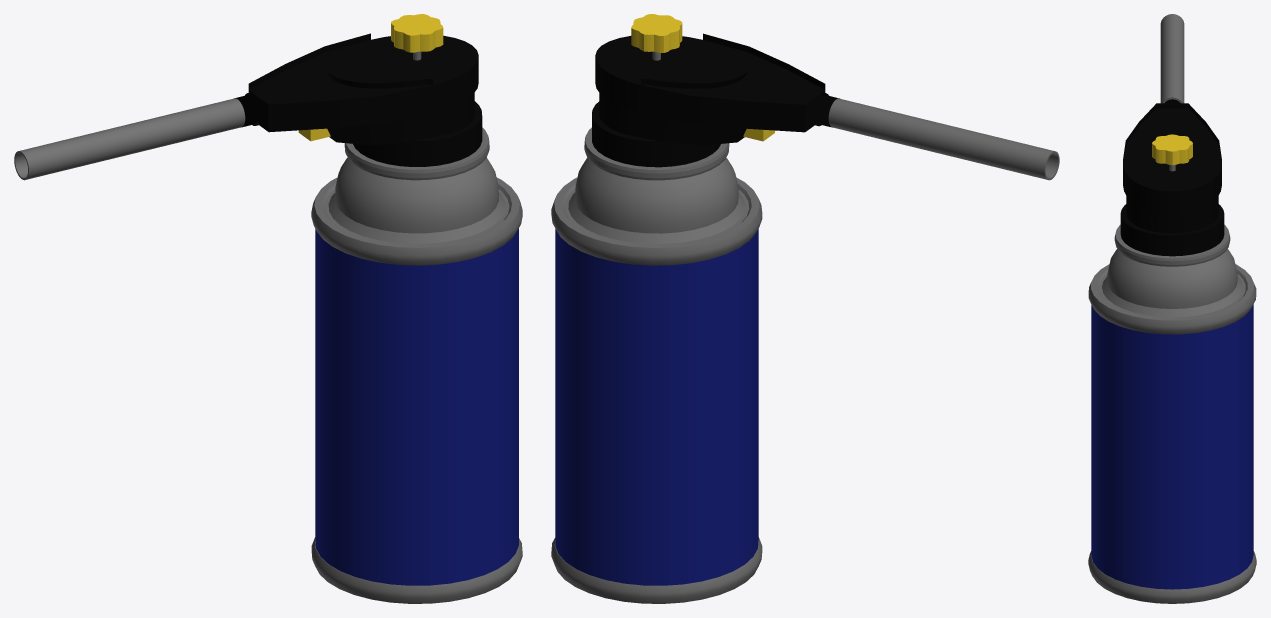
File: burner.gltf
The picture shows the model from 3 angles, left to right: view 1: azimuth 30°, elevation 25°; view 2: azimuth 150°, elevation 25°; view 3: azimuth 270°, elevation 25°; orthographic projection. The views are drawn at different scales.
Visible parts, largest first — view 1: Цилиндр, Плоскость.001, Окружность.002, Окружность.006, Окружность.001, Окружность, Плоскость, Окружность.004, Окружность.003, Окружность.008; view 2: Цилиндр, Плоскость.001, Окружность.002, Окружность.006, Окружность.001, Окружность, Плоскость, Окружность.004, Окружность.003, Окружность.008; view 3: Цилиндр, Плоскость.001, Окружность.002, Окружность.001, Окружность.004, Окружность, Окружность.006, Плоскость, Окружность.003, Окружность.008.
Part boxes in pixels (bbox=[...]): Цилиндр: bbox=[315, 228, 518, 585]; Плоскость.001: bbox=[248, 33, 478, 132]; Окружность.002: bbox=[328, 157, 505, 243]; Окружность.006: bbox=[14, 98, 245, 180]; Окружность.001: bbox=[311, 177, 522, 265]; Окружность: bbox=[311, 537, 522, 603]; Плоскость: bbox=[327, 93, 474, 145]; Окружность.004: bbox=[353, 101, 482, 166]; Окружность.003: bbox=[344, 127, 489, 180]; Окружность.008: bbox=[391, 14, 443, 52]; Цилиндр: bbox=[555, 229, 758, 585]; Плоскость.001: bbox=[595, 33, 825, 132]; Окружность.002: bbox=[568, 157, 745, 243]; Окружность.006: bbox=[828, 98, 1059, 180]; Окружность.001: bbox=[551, 177, 762, 265]; Окружность: bbox=[551, 537, 762, 603]; Плоскость: bbox=[599, 93, 746, 145]; Окружность.004: bbox=[592, 101, 720, 167]; Окружность.003: bbox=[584, 127, 729, 180]; Окружность.008: bbox=[631, 14, 682, 52]; Цилиндр: bbox=[1091, 304, 1253, 589]; Плоскость.001: bbox=[1123, 103, 1221, 213]; Окружность.002: bbox=[1102, 249, 1242, 317]; Окружность.001: bbox=[1088, 264, 1256, 334]; Окружность.004: bbox=[1120, 204, 1224, 256]; Окружность: bbox=[1088, 551, 1256, 603]; Окружность.006: bbox=[1160, 14, 1184, 103]; Плоскость: bbox=[1126, 196, 1218, 233]; Окружность.003: bbox=[1114, 224, 1230, 266]; Окружность.008: bbox=[1152, 134, 1192, 165].
Bounding box in the file's own units: 5.47 × 5.75 × 2.06.
